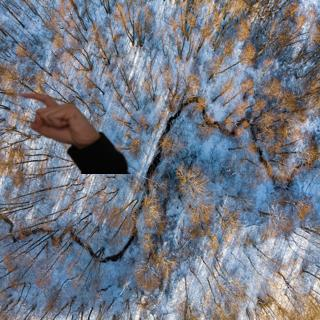WHY: (18, 87, 97, 147)
